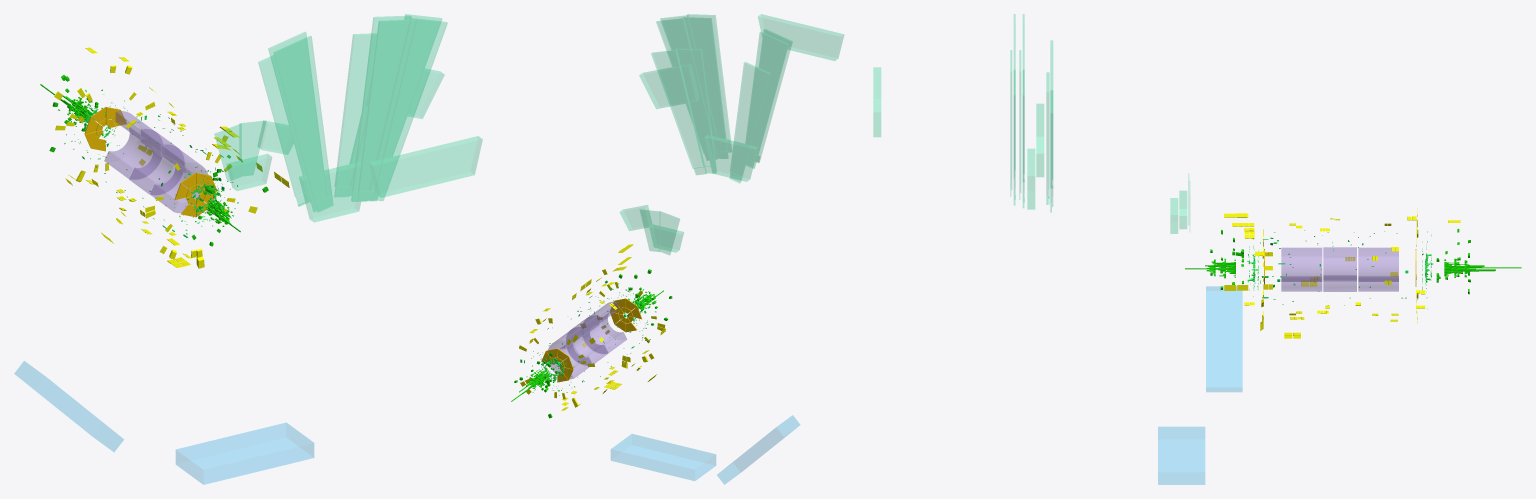
3 renders of one model, left to right at view 1: azimuth 30°, elevation 25°; view 2: azimuth 150°, elevation 25°; view 3: azimuth 270°, elevation 25°, orthographic. The views are drawn at different scales.
Visible parts, largest first — view 1: SepHelperInternalSep (×11); view 2: SepHelperInternalSep (×11); view 3: SepHelperInternalSep (×7).
Boxes of the visible parts, left/top/right/bottom form: SepHelperInternalSep (×11): left=14, top=14, right=482, bottom=484; SepHelperInternalSep (×11): left=519, top=14, right=843, bottom=484; SepHelperInternalSep (×7): left=873, top=14, right=1398, bottom=484.
Bounding box in the file's own units: 13872 × 21745 × 30002.
